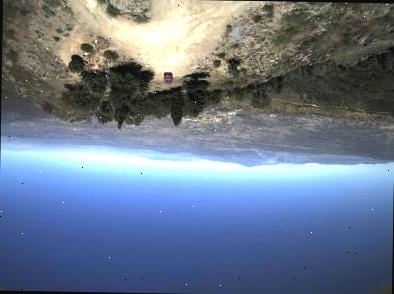smoke: (248, 147, 305, 172)
